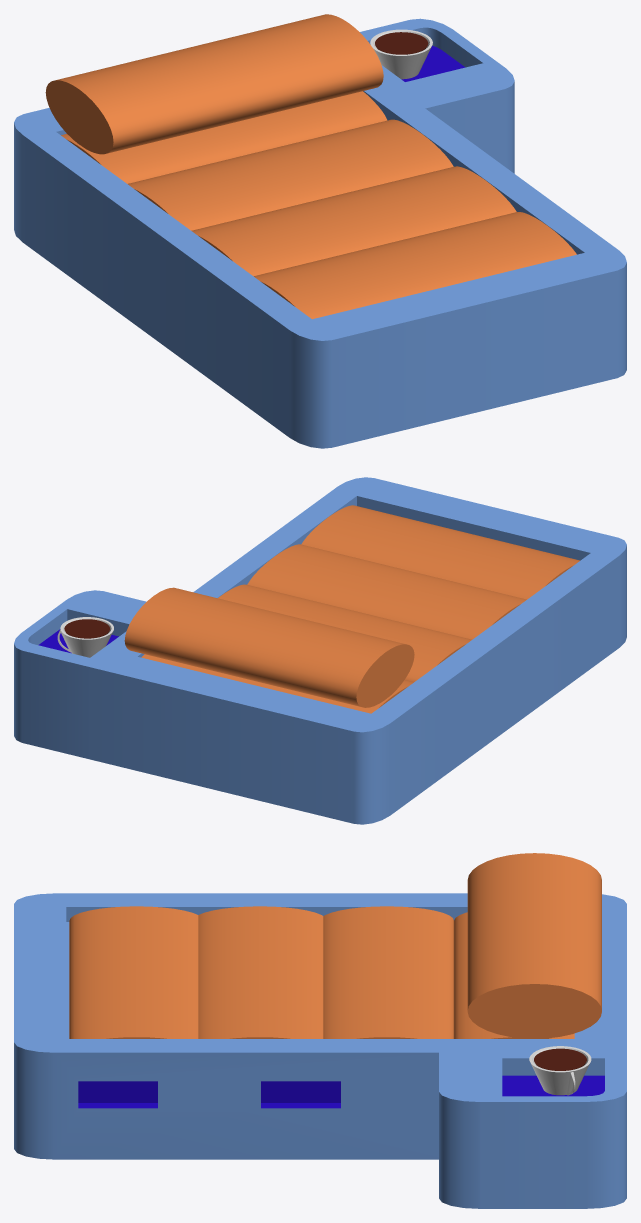
Rendered from bed.fbx.
3 renders of one model, top to bottom at view 1: azimuth 30°, elevation 25°; view 2: azimuth 150°, elevation 25°; view 3: azimuth 270°, elevation 25°, orthographic. The views are drawn at different scales.
Parts seen in each view (by area): view 1: Cube, Cylinder, Cylinder.003, Cylinder.002, Cylinder.001, Cylinder.004, Cylinder.005; view 2: Cube, Cylinder, Cylinder.002, Cylinder.001, Cylinder.003, Cylinder.005, Cylinder.004; view 3: Cube, Cylinder, Cylinder.003, Cylinder.001, Cylinder.002, Cylinder.005, Cylinder.004.
Boxes of the visible parts, x1,y1,x2,y2 form: Cube: (14,18,626,448); Cylinder: (45,14,383,154); Cylinder.003: (128,119,453,230); Cylinder.002: (191,166,516,276); Cylinder.001: (254,212,576,319); Cylinder.004: (61,91,387,183); Cylinder.005: (370,29,432,79); Cube: (14,477,626,824); Cylinder: (124,587,414,707); Cylinder.002: (247,544,526,639); Cylinder.001: (301,505,579,599); Cylinder.003: (218,584,471,681); Cylinder.005: (57,617,113,657); Cylinder.004: (141,654,413,713); Cube: (14,893,626,1208); Cylinder: (467,853,601,1038); Cylinder.003: (323,906,454,1038); Cylinder.001: (69,906,198,1038); Cylinder.002: (198,906,323,1038); Cylinder.005: (529,1046,591,1095); Cylinder.004: (454,912,574,1038).
Bounding box in the file's own units: 577 × 209 × 716.
